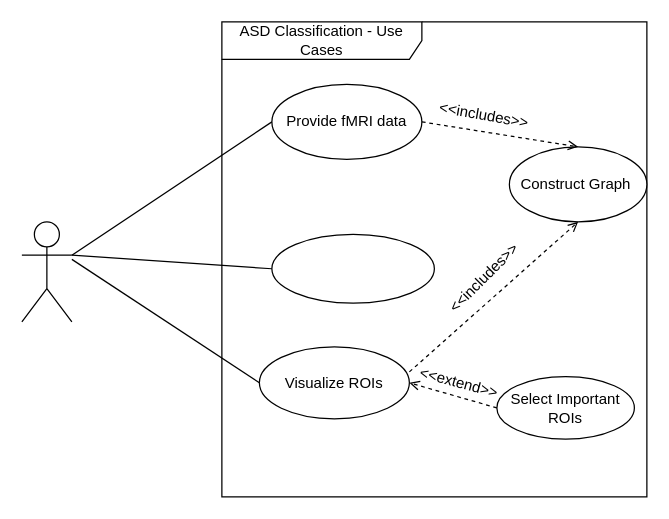
This 669x519 diagram has some shape labels left out. Each missing label, with the centre of its shape:
"Classify Patient (ASD or TC)" goes at pixel 352 268.
"User" goes at pixel 46 271.
